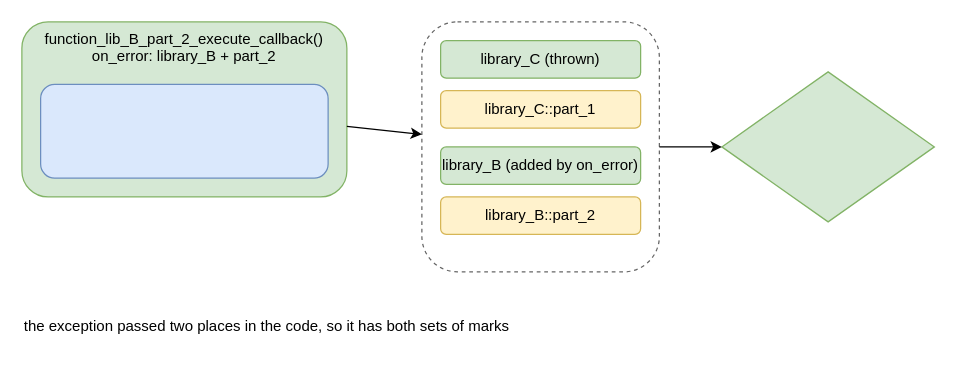
Image size: 956x369. Some labels were removed from this diagram. Here are the shapes that lost their labels. From the top down, the centre of each, then its label:
the point at 183,130: callback from function_lib_C_part_1_get_callback() throw: library_C + part_1
the point at 827,146: handler asking for both pairs matches
